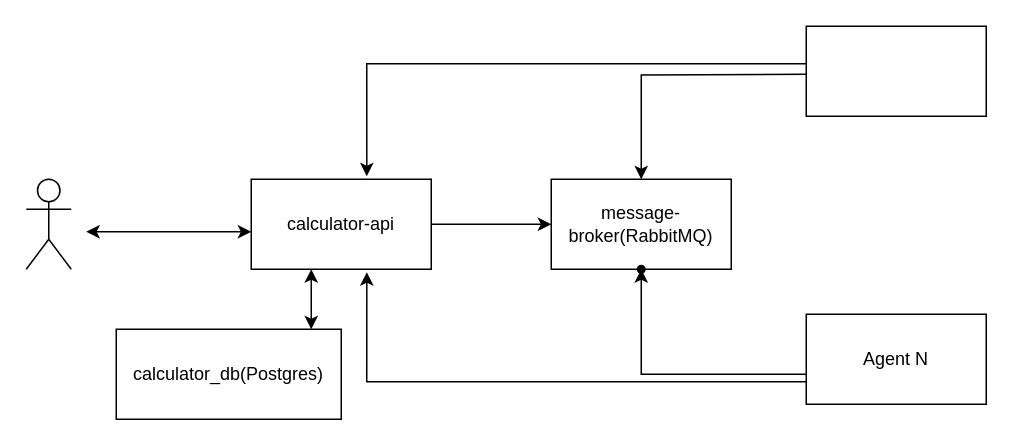
Some shapes in this 1013 by 446 pixel diagram are drawn without their labels. Each missing label, with the centre of its shape:
Actor: [48,223]
Agent 1: [895,70]
